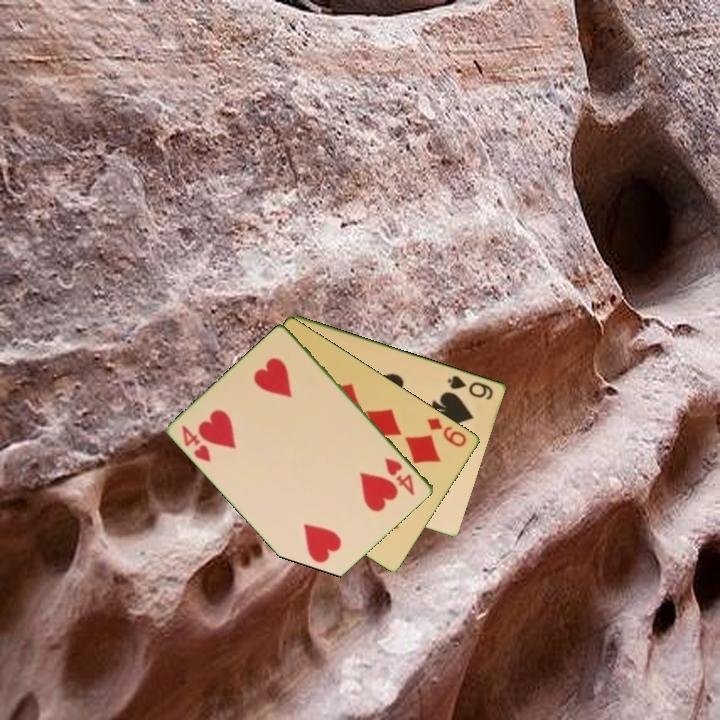4h: (381, 454, 418, 498), (178, 422, 214, 465)
6s: (444, 372, 496, 403)
9d: (424, 414, 470, 450)
